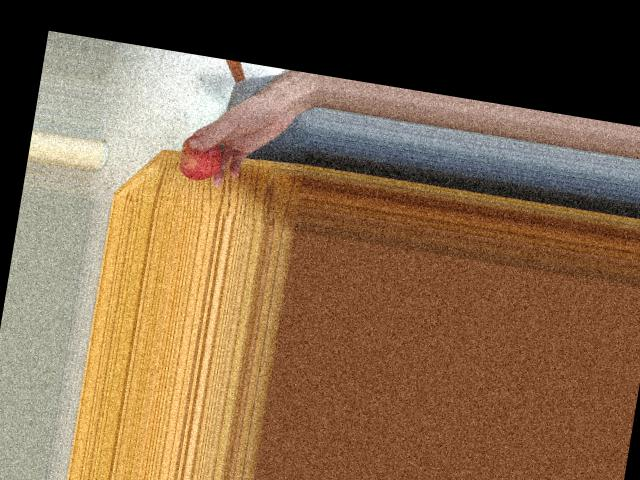apple: (174, 133, 225, 182)
